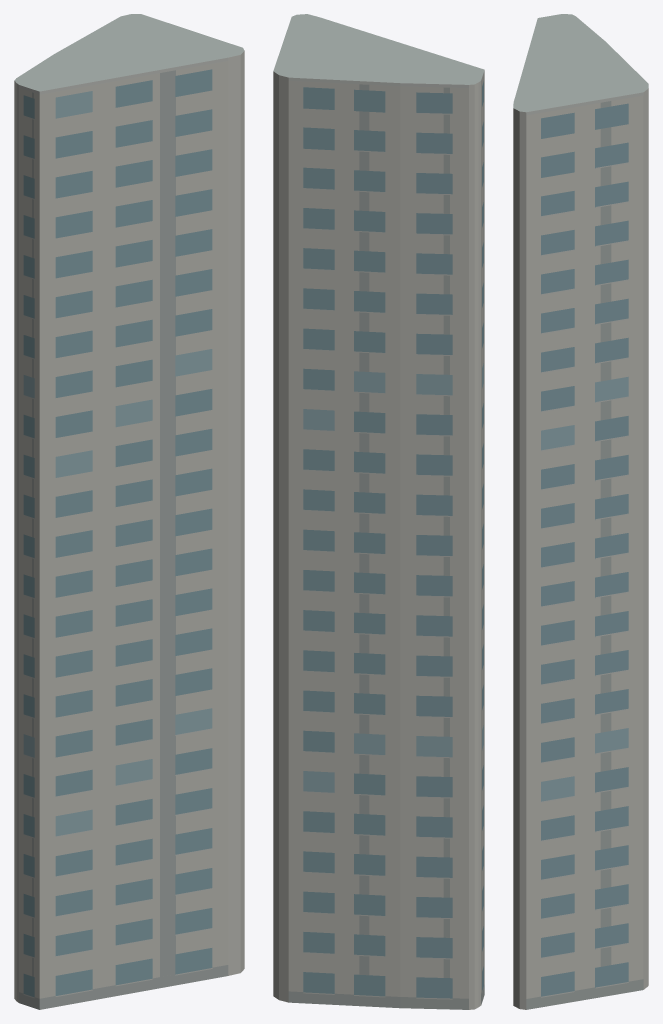
The model's file is survey-upis-32525730.glb.
3 renders of one model, left to right at view 1: azimuth 30°, elevation 25°; view 2: azimuth 150°, elevation 25°; view 3: azimuth 270°, elevation 25°, orthographic. The views are drawn at different scales.
Visible parts, largest first — view 1: survey-upis-32525730.tmp; view 2: survey-upis-32525730.tmp; view 3: survey-upis-32525730.tmp.
Boxes of the visible parts, x1,y1,x2,y2 form: survey-upis-32525730.tmp: (14, 14, 244, 1009); survey-upis-32525730.tmp: (273, 14, 484, 1009); survey-upis-32525730.tmp: (513, 14, 648, 1009).
Size of the model in its own units: 16.48 by 70.15 by 9.61.
